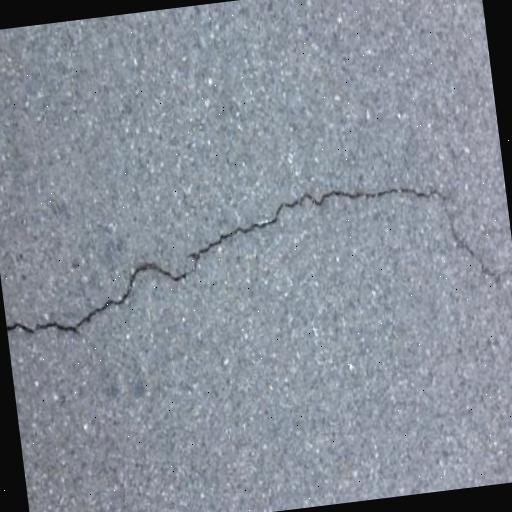spalling: (14, 169, 506, 355)
